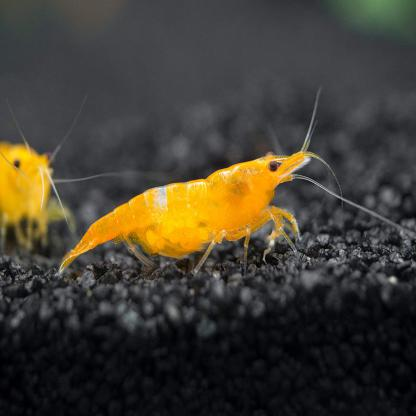shrimp: (56, 151, 316, 289)
